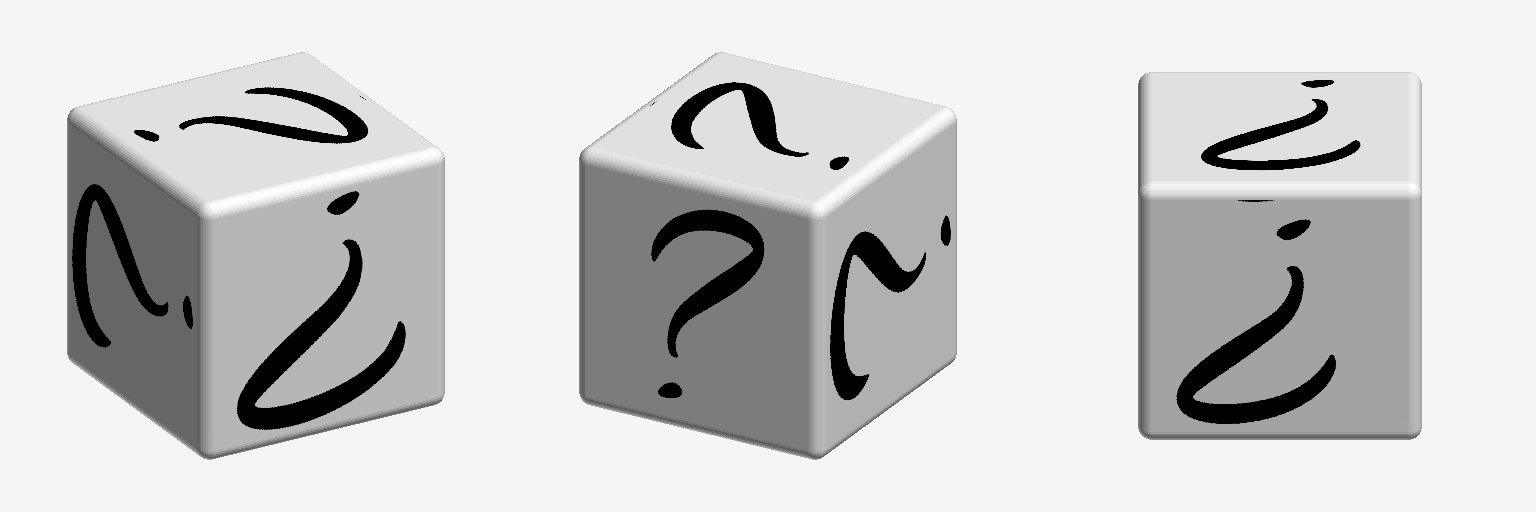
The picture shows the model from 3 angles: view 1: azimuth 30°, elevation 25°; view 2: azimuth 150°, elevation 25°; view 3: azimuth 270°, elevation 25°; orthographic projection.
Parts seen in each view (by area): view 1: Cube; view 2: Cube; view 3: Cube.
Part boxes in pixels (bbox=[...]): Cube: bbox=[67, 52, 444, 459]; Cube: bbox=[579, 52, 956, 459]; Cube: bbox=[1138, 72, 1421, 439].
Size of the model in its own units: 2 by 2 by 2.
Materials: 1 (1 with a texture image).